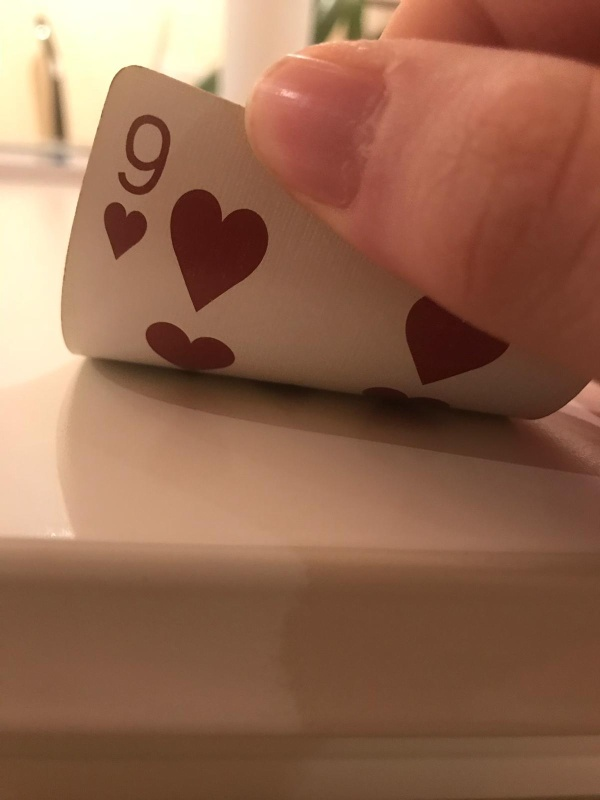H9: (98, 108, 168, 264)
